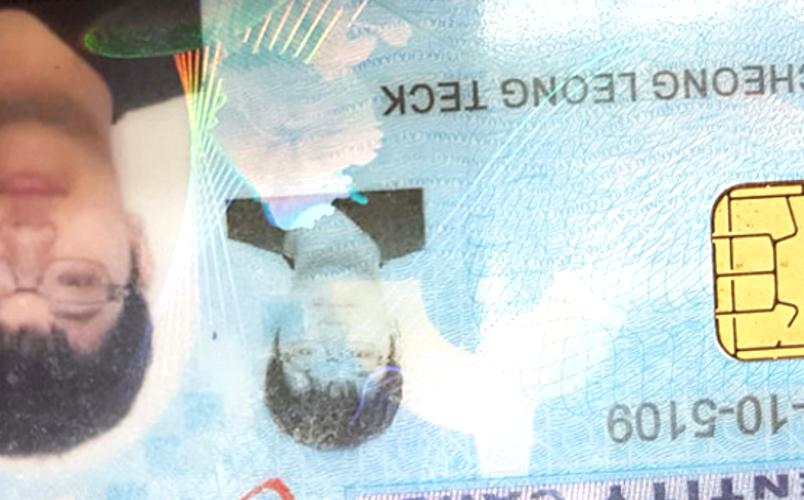hologramB: (206, 2, 381, 191)
